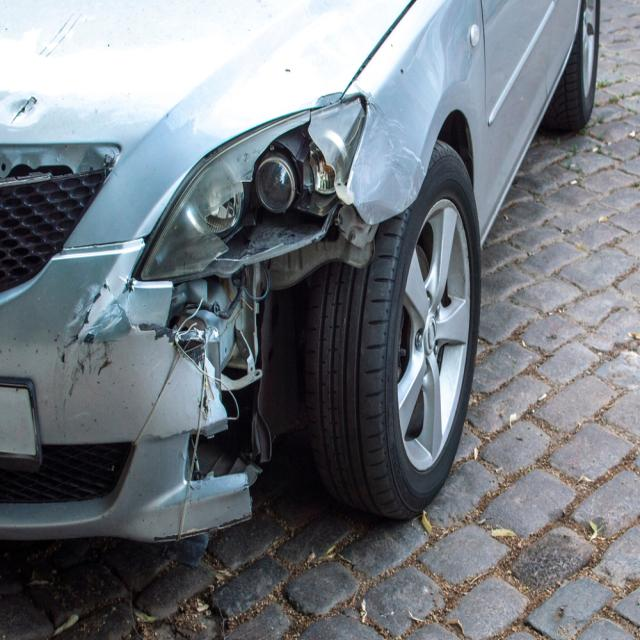Dechirure: (69, 274, 117, 361), (14, 70, 49, 131)
Phare abime: (123, 91, 368, 304)
